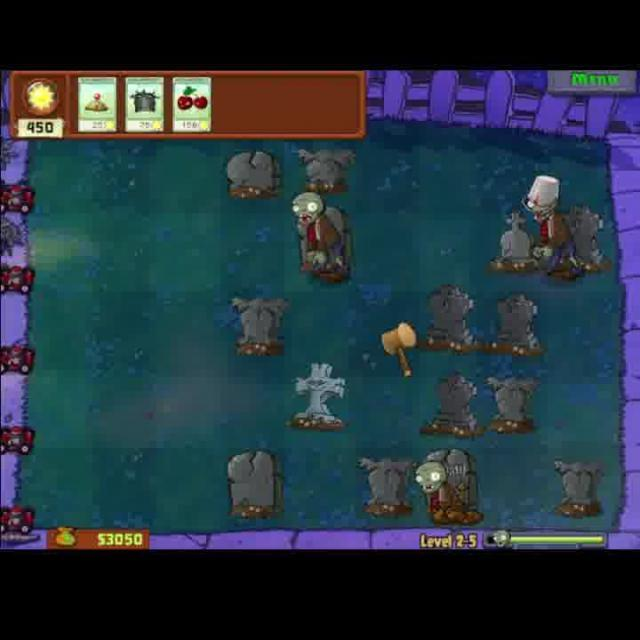zombies: (521, 170, 583, 280), (285, 186, 347, 286), (412, 457, 458, 522)
